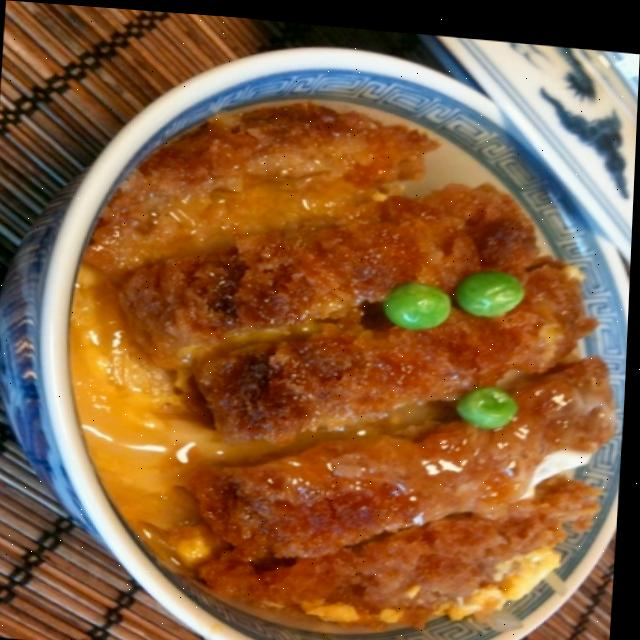炸货点心: (93, 85, 607, 632)
